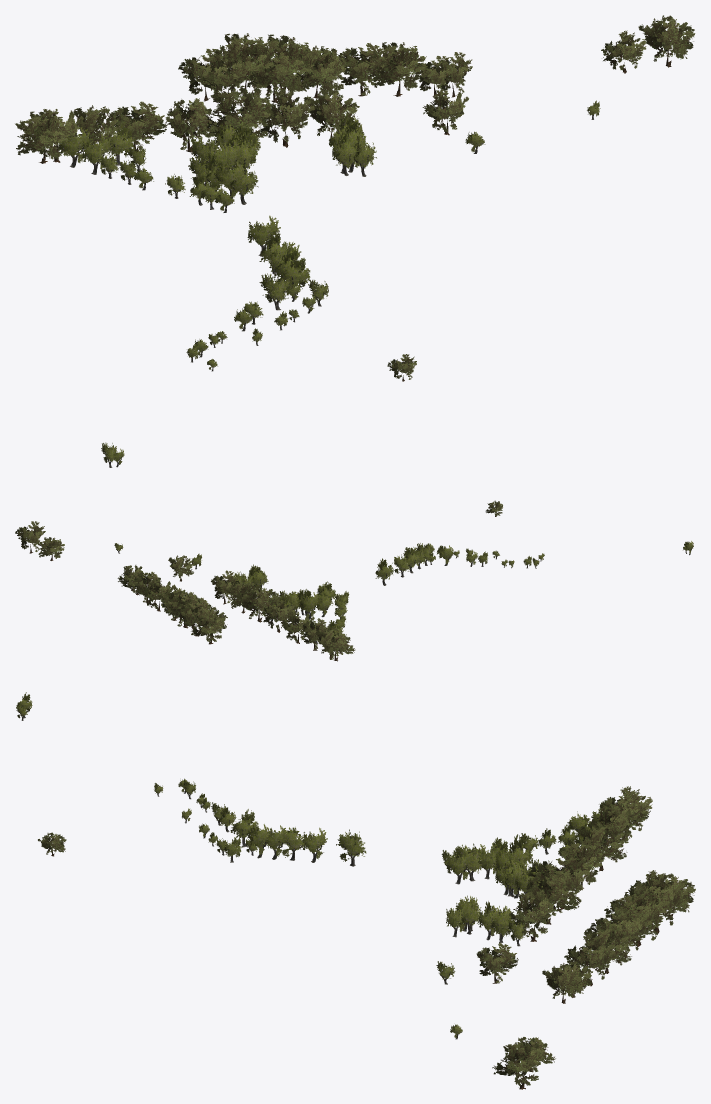
The picture shows the model from 3 angles, top to bottom: view 1: azimuth 30°, elevation 25°; view 2: azimuth 150°, elevation 25°; view 3: azimuth 270°, elevation 25°; orthographic projection. The views are drawn at different scales.
Visible parts, largest first — view 1: jacaranda_tree street foliage, island_tree_01 street foliage, island_tree_01 park bark, jacaranda_tree park bark; view 2: jacaranda_tree street foliage, island_tree_01 street foliage, island_tree_01 park bark, jacaranda_tree park bark; view 3: jacaranda_tree street foliage, island_tree_01 street foliage, island_tree_01 park bark.
Part boxes in pixels (left/top/right/bottom): jacaranda_tree street foliage: left=15, top=15, right=695, bottom=379; island_tree_01 street foliage: left=58, top=100, right=600, bottom=464; island_tree_01 park bark: left=70, top=110, right=593, bottom=467; jacaranda_tree park bark: left=38, top=51, right=671, bottom=381; jacaranda_tree street foliage: left=15, top=500, right=502, bottom=659; island_tree_01 street foliage: left=114, top=541, right=693, bottom=637; island_tree_01 park bark: left=116, top=548, right=691, bottom=652; jacaranda_tree park bark: left=29, top=512, right=496, bottom=661; jacaranda_tree street foliage: left=38, top=786, right=695, bottom=1085; island_tree_01 street foliage: left=16, top=692, right=615, bottom=1037; island_tree_01 park bark: left=18, top=705, right=607, bottom=1039.
Bounding box in the file's own units: 245 × 17.49 × 183.
4 materials, 4 textured.
